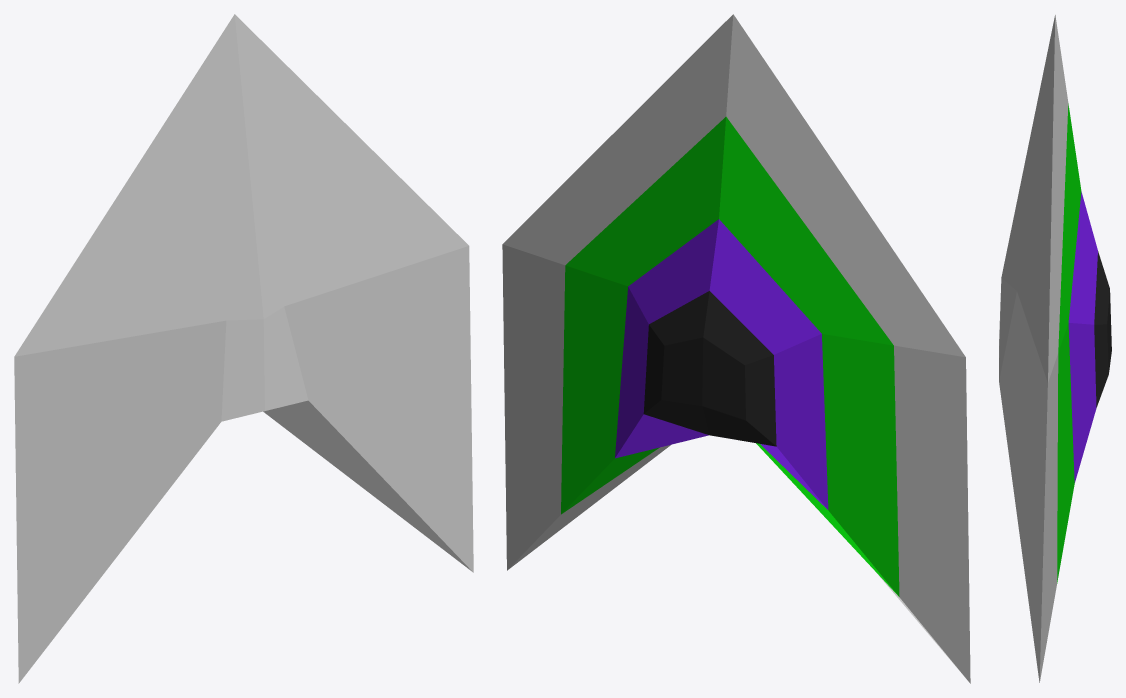
The model's file is ZigZagEnemy 1.fbx.
3 views of the same model, side by side, from view 1: azimuth 30°, elevation 25°; view 2: azimuth 150°, elevation 25°; view 3: azimuth 270°, elevation 25° (orthographic). The views are drawn at different scales.
Visible parts, largest first — view 1: Cube; view 2: Cube; view 3: Cube.
Boxes of the visible parts, x1,y1,x2,y2 form: Cube: [14, 14, 473, 683]; Cube: [502, 14, 970, 683]; Cube: [999, 15, 1111, 682].
Size of the model in its own units: 1047 by 1339 by 242.
